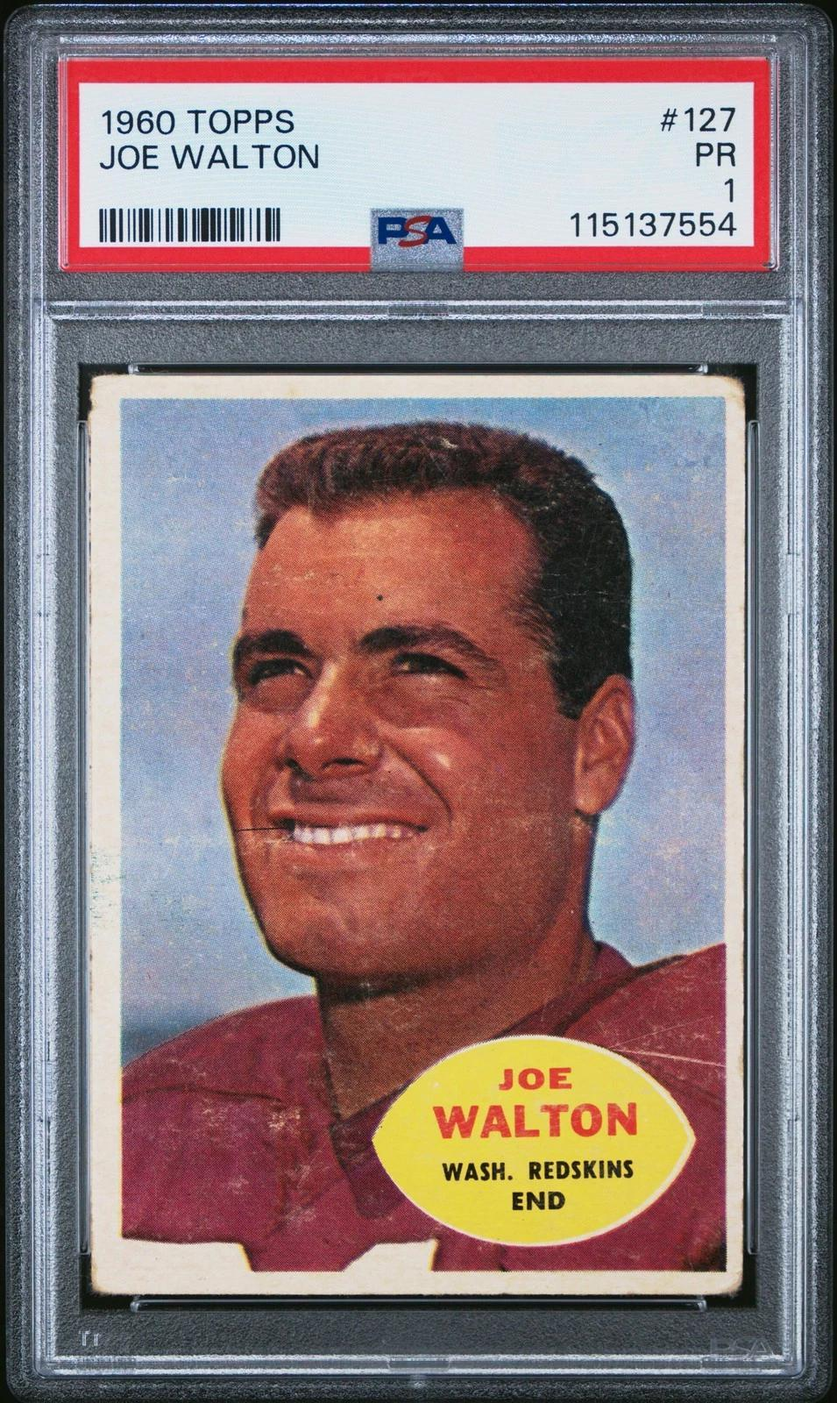card-2UtV: (87, 369, 746, 1300)
